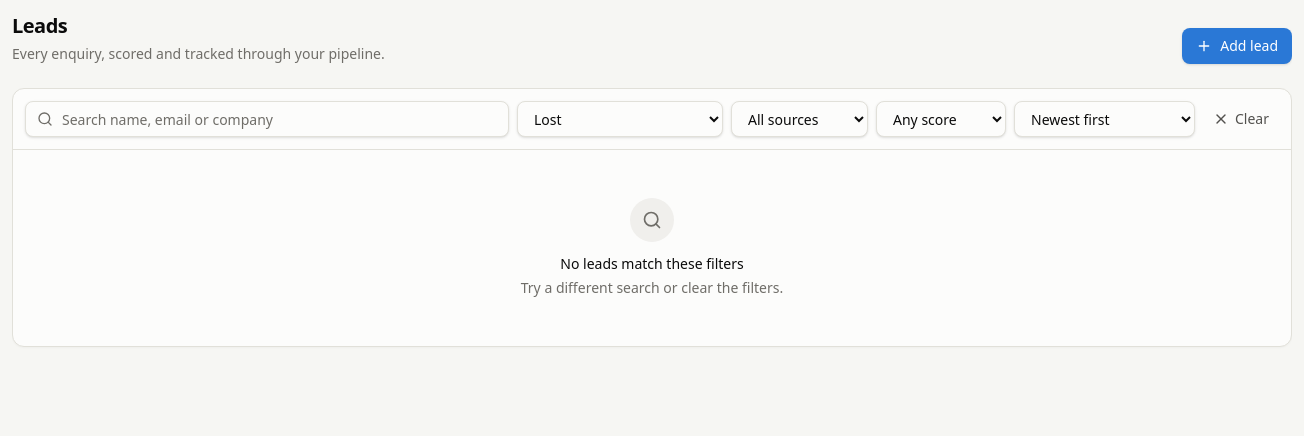
Test case: Leads › distinguishes "no leads yet" from "no matches"
Expected: the text "No leads match these filters" is shown, [560,254,744,274]
Click the button "Clear" at (1241, 119), box [1203,103,1279,135]
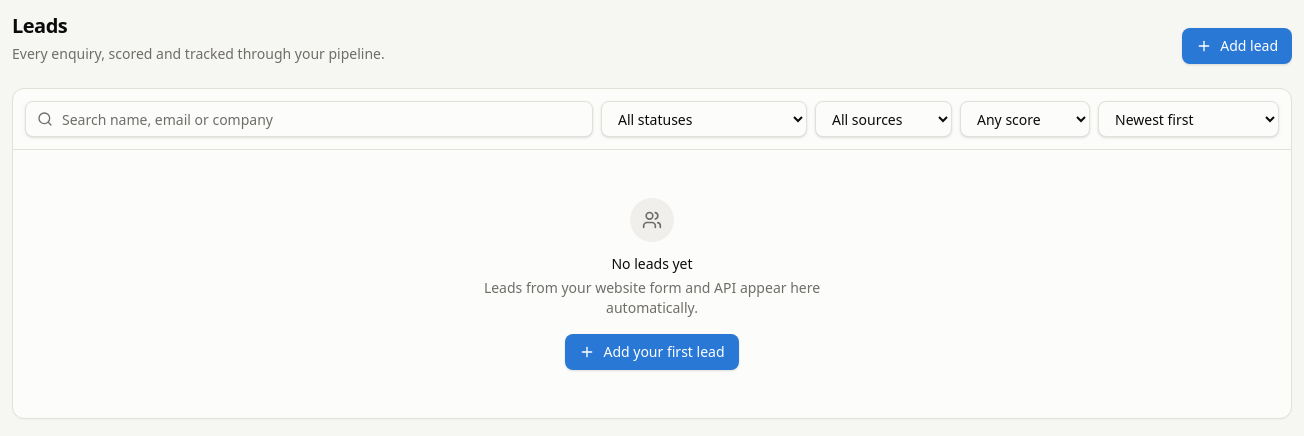
Result: the text "No leads yet" is shown at [611,254,693,274]
